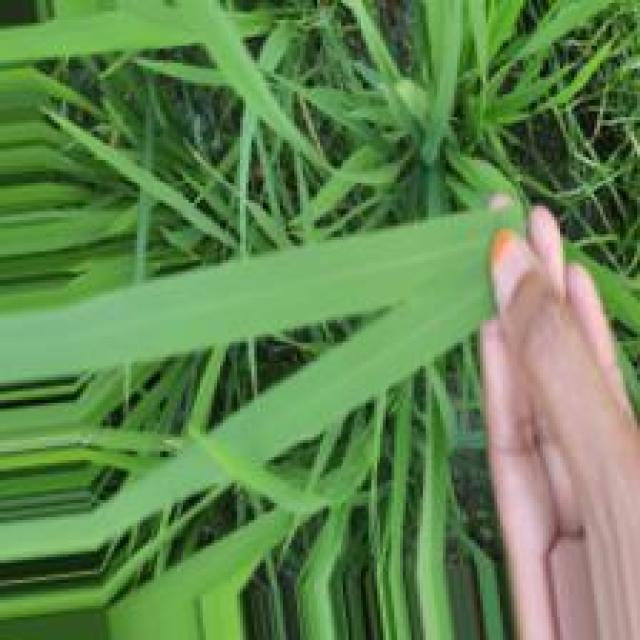HealthyLeaf: (0, 215, 488, 564)
